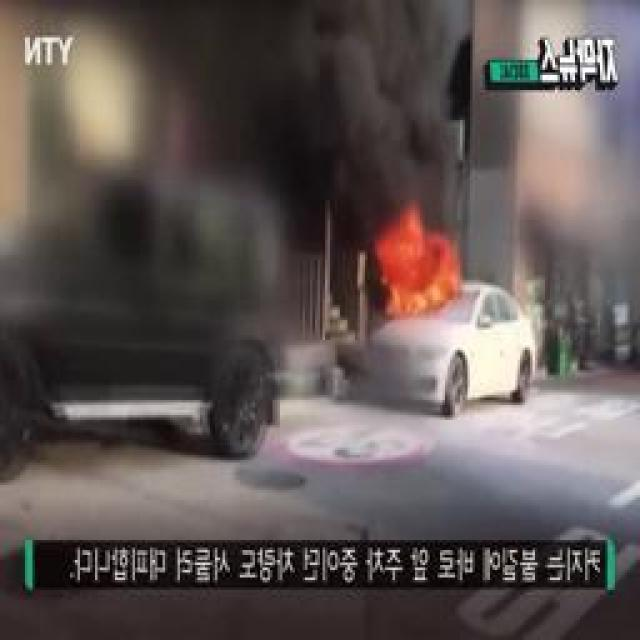Fire: (382, 239, 462, 314)
